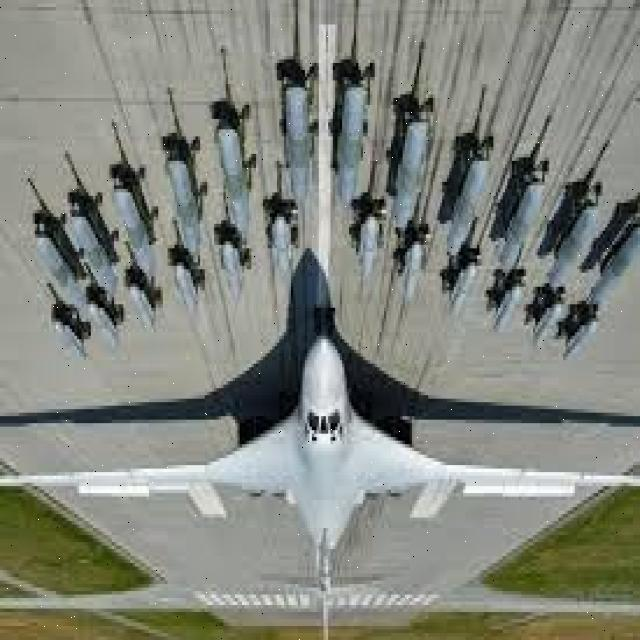Tu160: (0, 256, 640, 640)
